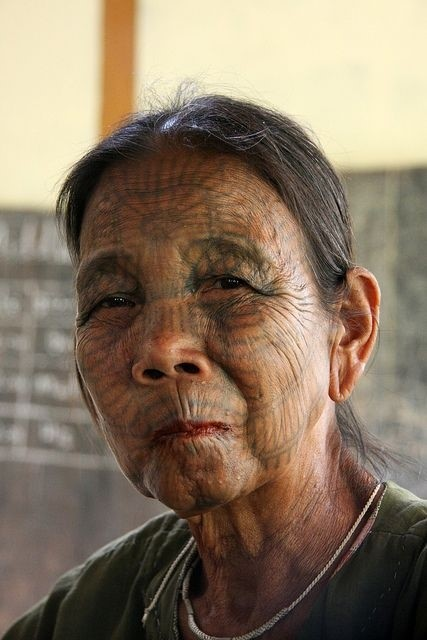face_no_mask: (72, 110, 380, 517)
